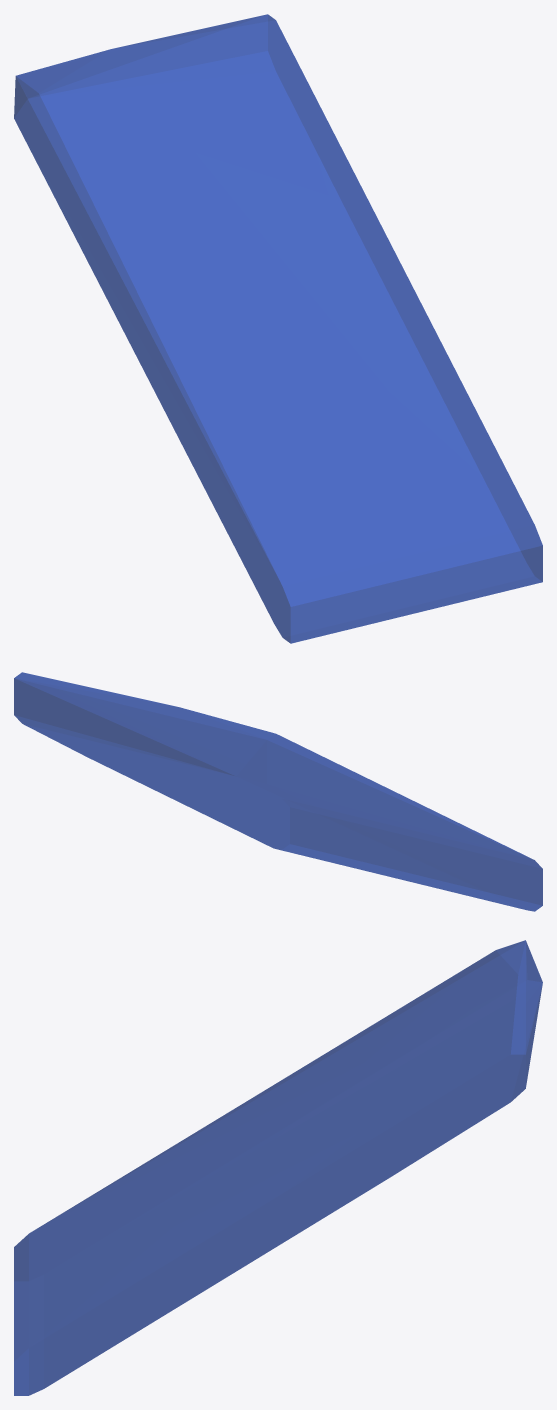
The picture shows the model from 3 angles, top to bottom: view 1: azimuth 30°, elevation 25°; view 2: azimuth 150°, elevation 25°; view 3: azimuth 270°, elevation 25°; orthographic projection. The views are drawn at different scales.
Visible parts, largest first — view 1: Shape_IndexedFaceSet.019_Shape_IndexedFaceSet.9480; view 2: Shape_IndexedFaceSet.019_Shape_IndexedFaceSet.9480; view 3: Shape_IndexedFaceSet.019_Shape_IndexedFaceSet.9480.
Part boxes in pixels (left/top/right/bottom): Shape_IndexedFaceSet.019_Shape_IndexedFaceSet.9480: left=14, top=14, right=542, bottom=643; Shape_IndexedFaceSet.019_Shape_IndexedFaceSet.9480: left=14, top=672, right=542, bottom=911; Shape_IndexedFaceSet.019_Shape_IndexedFaceSet.9480: left=14, top=940, right=542, bottom=1395.
Size of the model in its own units: 0.0971 by 0.1372 by 0.189.
